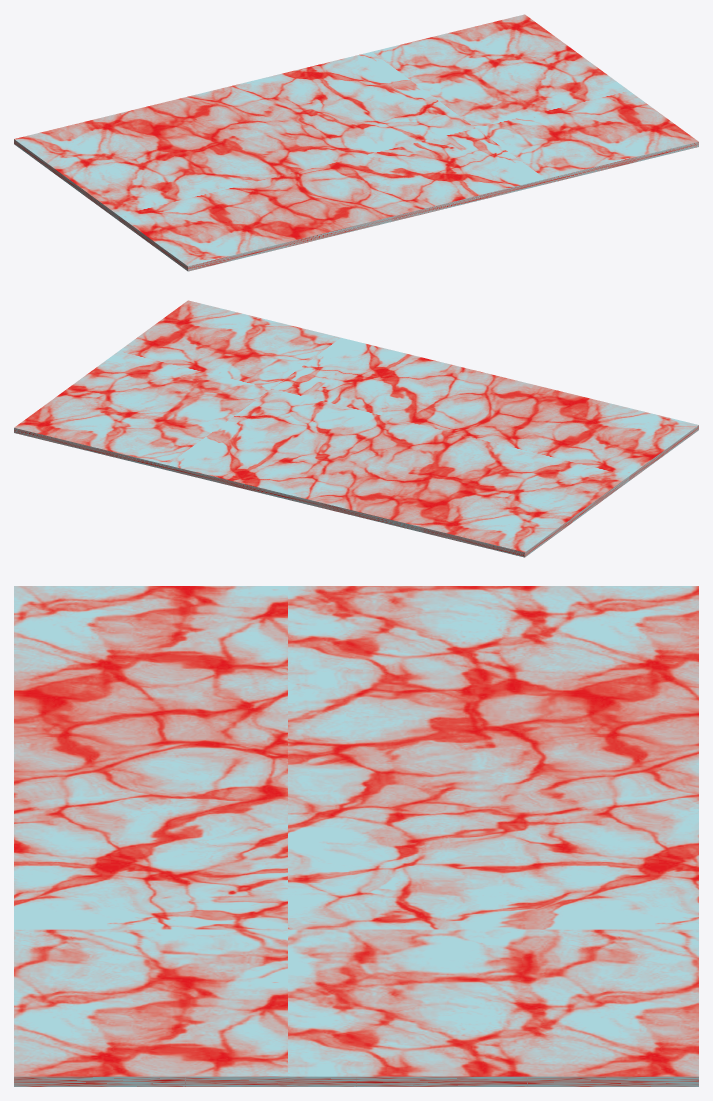
File: floor.obj
The picture shows the model from 3 angles, top to bottom: view 1: azimuth 30°, elevation 25°; view 2: azimuth 150°, elevation 25°; view 3: azimuth 270°, elevation 25°; orthographic projection. The views are drawn at different scales.
Parts seen in each view (by area): view 1: Cube.018; view 2: Cube.018; view 3: Cube.018.
Part boxes in pixels (left/top/right/bottom): Cube.018: left=14, top=14, right=698, bottom=271; Cube.018: left=14, top=300, right=698, bottom=557; Cube.018: left=14, top=586, right=698, bottom=1086.
Bounding box in the file's own units: 15.94 × 0.1548 × 9.41.
1 material, 1 textured.
